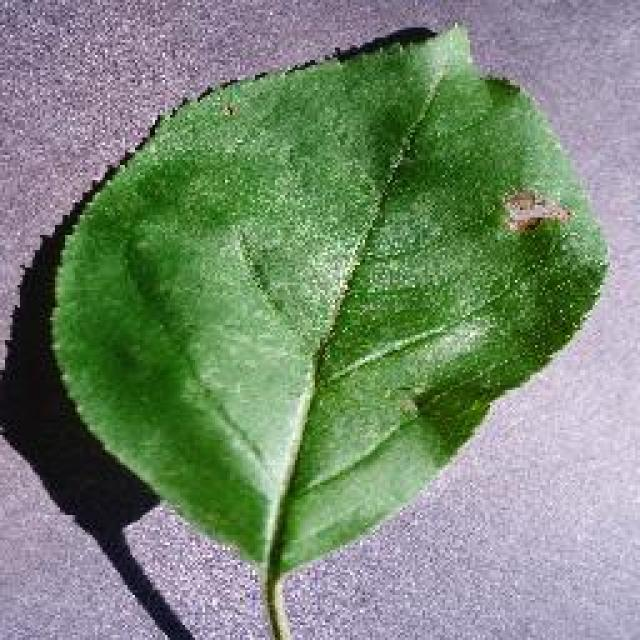Apple___Black_rot: (45, 18, 614, 589)
